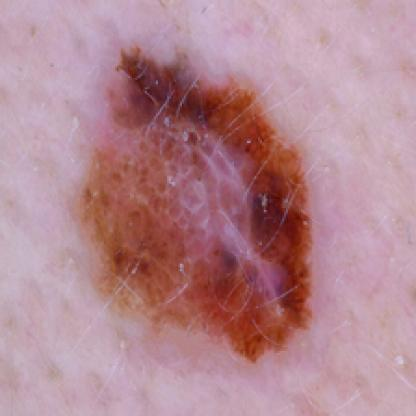Skin_Cancer-Malignant: (69, 44, 315, 364)
